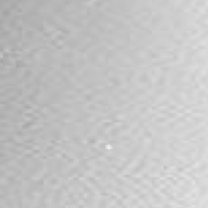Target: (105, 145, 113, 151)
